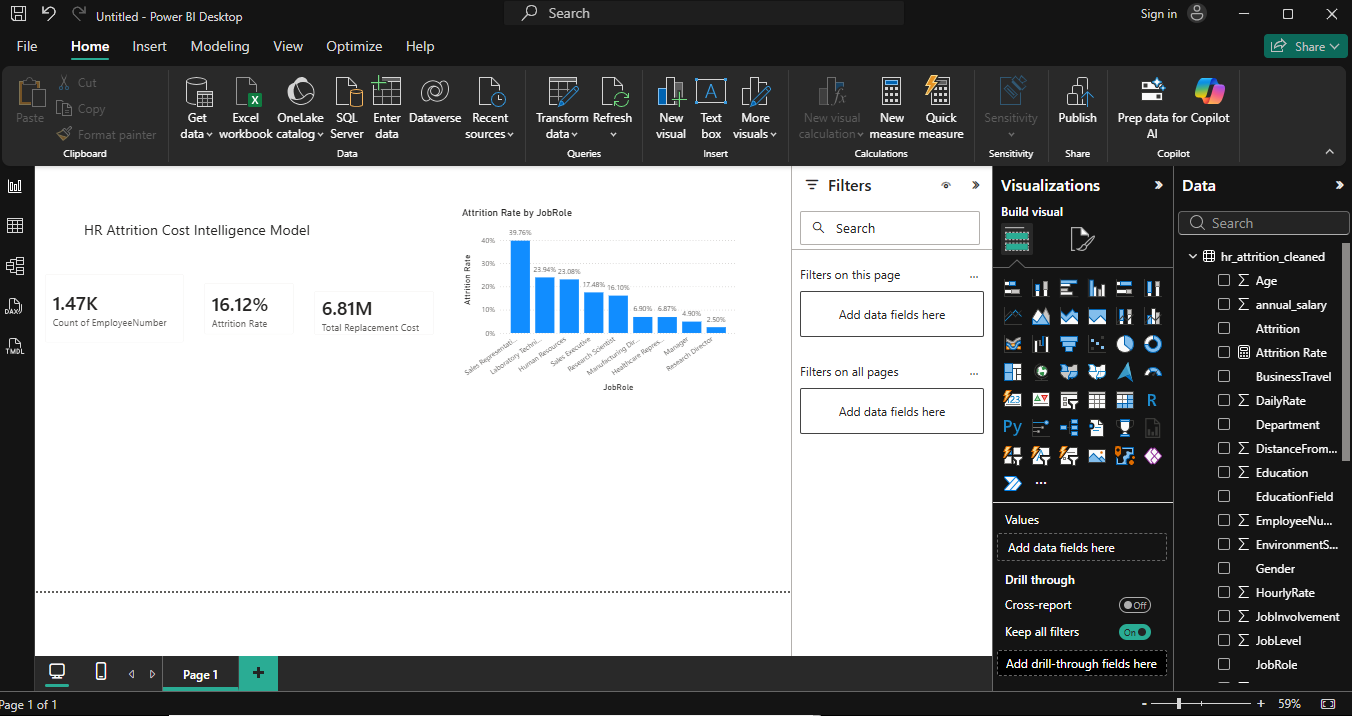

What the dashboard file says about the page in this screenshot:
{"tool":"powerbi","page":{"name":"Page 1","canvas":[1280,720],"ordinal":0},"visuals":[{"type":"cardVisual","fields":{"Data":["hr_attrition_cleaned.Attrition Rate"]},"box":[269.2,181.2,186.2,121.9],"z":0},{"type":"cardVisual","fields":{"Data":["CountNonNull(hr_attrition_cleaned.EmployeeNumber)"]},"box":[0,165.9,269.2,150.7],"z":1},{"type":"cardVisual","fields":{"Data":["hr_attrition_cleaned.Total Replacement Cost"]},"box":[455.4,194.7,237,108.4],"z":2},{"type":"clusteredColumnChart","fields":{"Y":["hr_attrition_cleaned.Attrition Rate"],"Category":["hr_attrition_cleaned.JobRole"]},"box":[717.9,69.4,474.1,318.3],"z":3},{"type":"textbox","box":[77.9,86.3,640,54.2],"z":4}]}

Visuals, with their boxes on the page's 1280x720 design canvas (x1, y1, x2, y2). These are canvas units, not pixel positions in the 1352x716 screenshot, which may show the page scaled, cropped or inside an application window:
cardVisual - hr_attrition_cleaned.Attrition Rate: (269,181,455,303)
cardVisual - CountNonNull(hr_attrition_cleaned.EmployeeNumber): (0,166,269,317)
cardVisual - hr_attrition_cleaned.Total Replacement Cost: (455,195,692,303)
clusteredColumnChart - hr_attrition_cleaned.Attrition Rate x hr_attrition_cleaned.JobRole: (718,69,1192,388)
textbox: (78,86,718,140)
